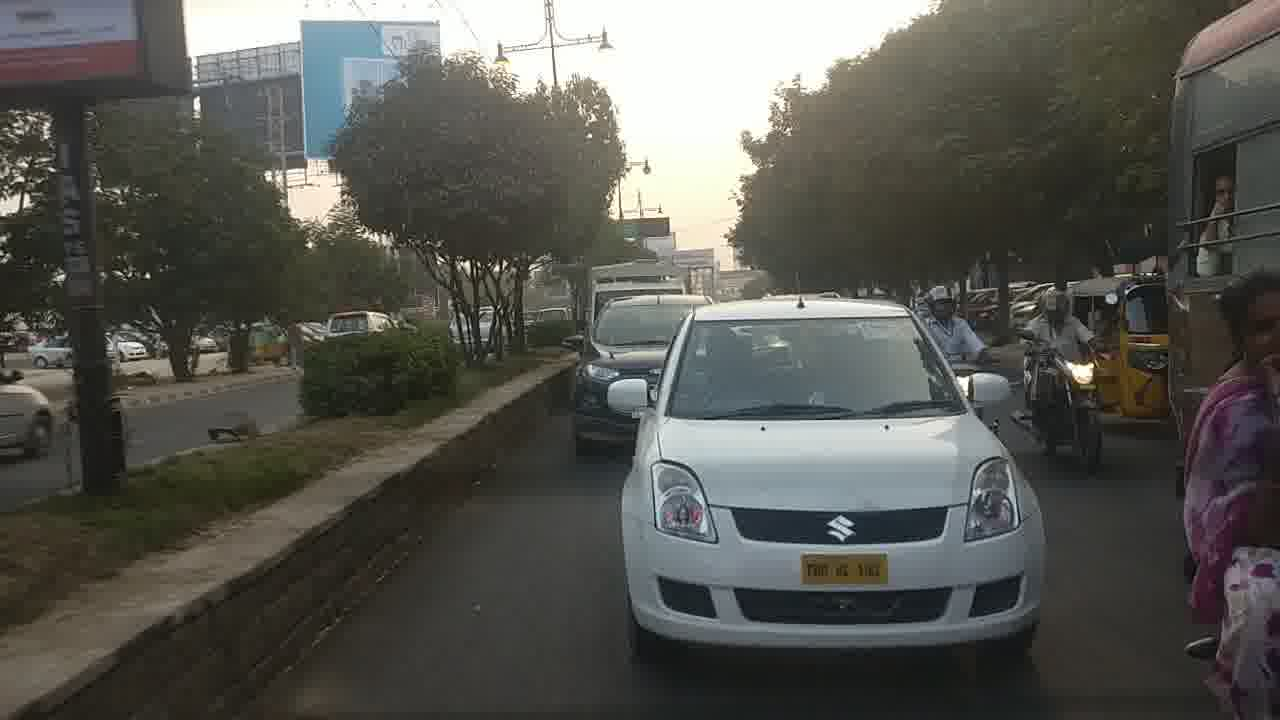swift desire: (629, 308, 1047, 639)
